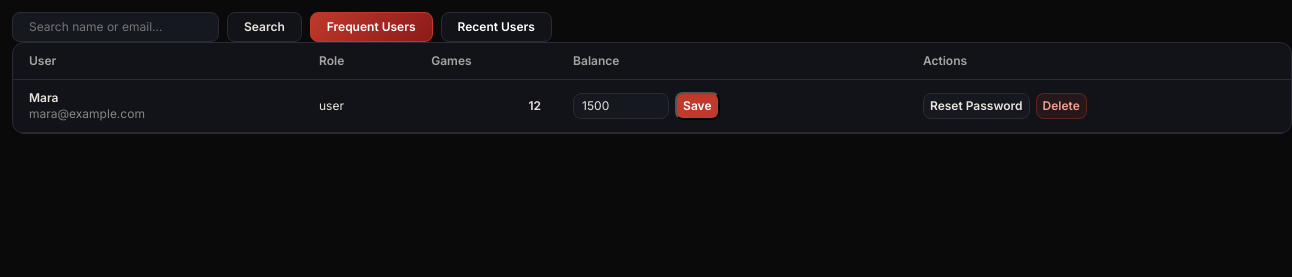
Scenario: AdminUserManagement › resets the selected user password
Check: the text "Mara" is shown, box [29,90,58,105]
Click the button "Reset Password": (976, 106) [923,93,1030,119]
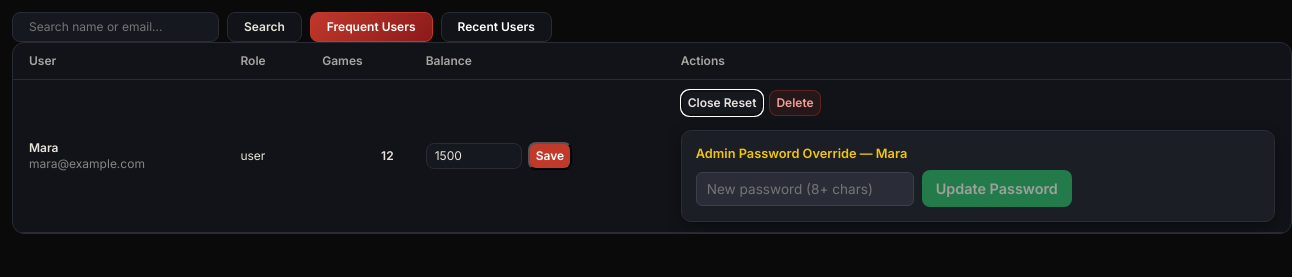
In the password field named "New password for Mara": (805, 189) [696,172,914,206], type "new-password"
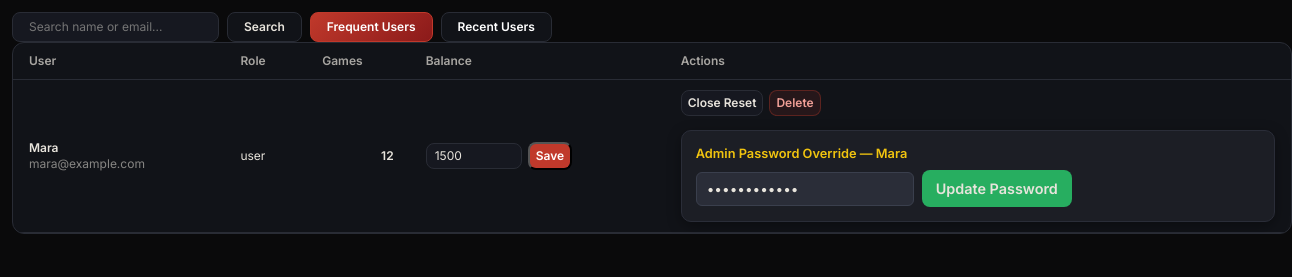
Click the button "Update Password": (997, 189) [922,170,1072,207]
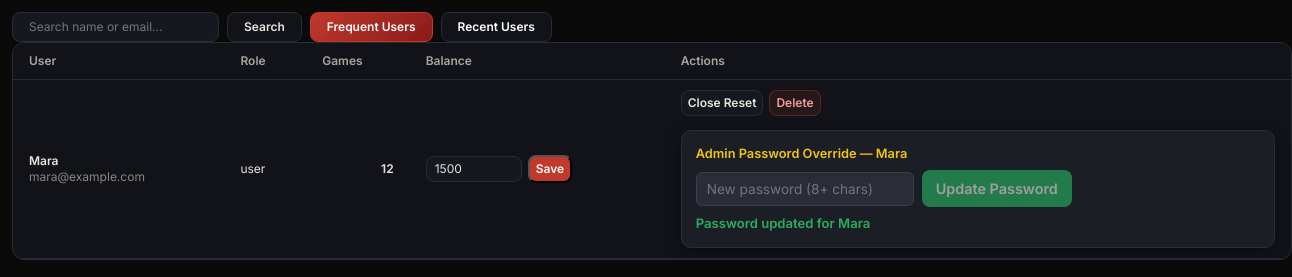
Check: the text "Password updated for Mara" is shown, box [696,215,870,231]
